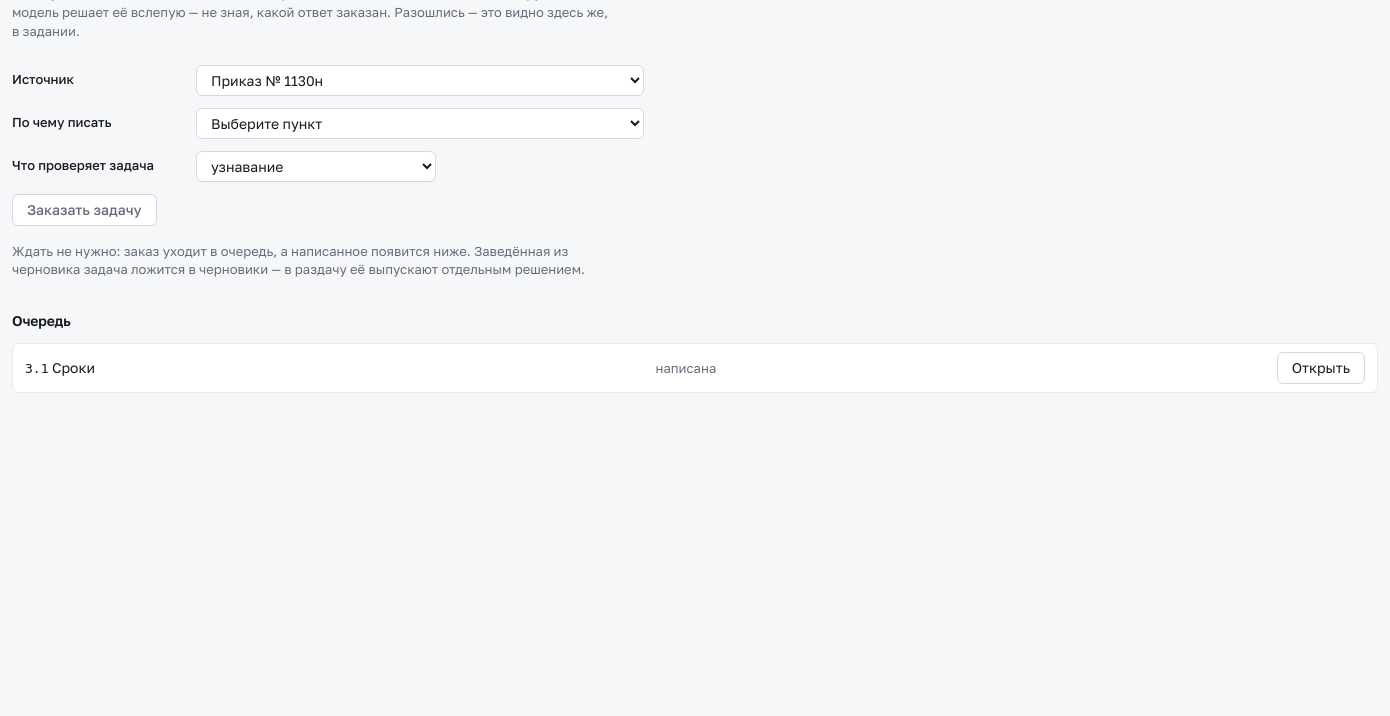
слепая сверка и повтор › снятое разбором расхождение не выглядит тревогой
Click the button "Открыть" at coordinates (1321, 368), box [1277,352,1365,384]
(page scrolled)
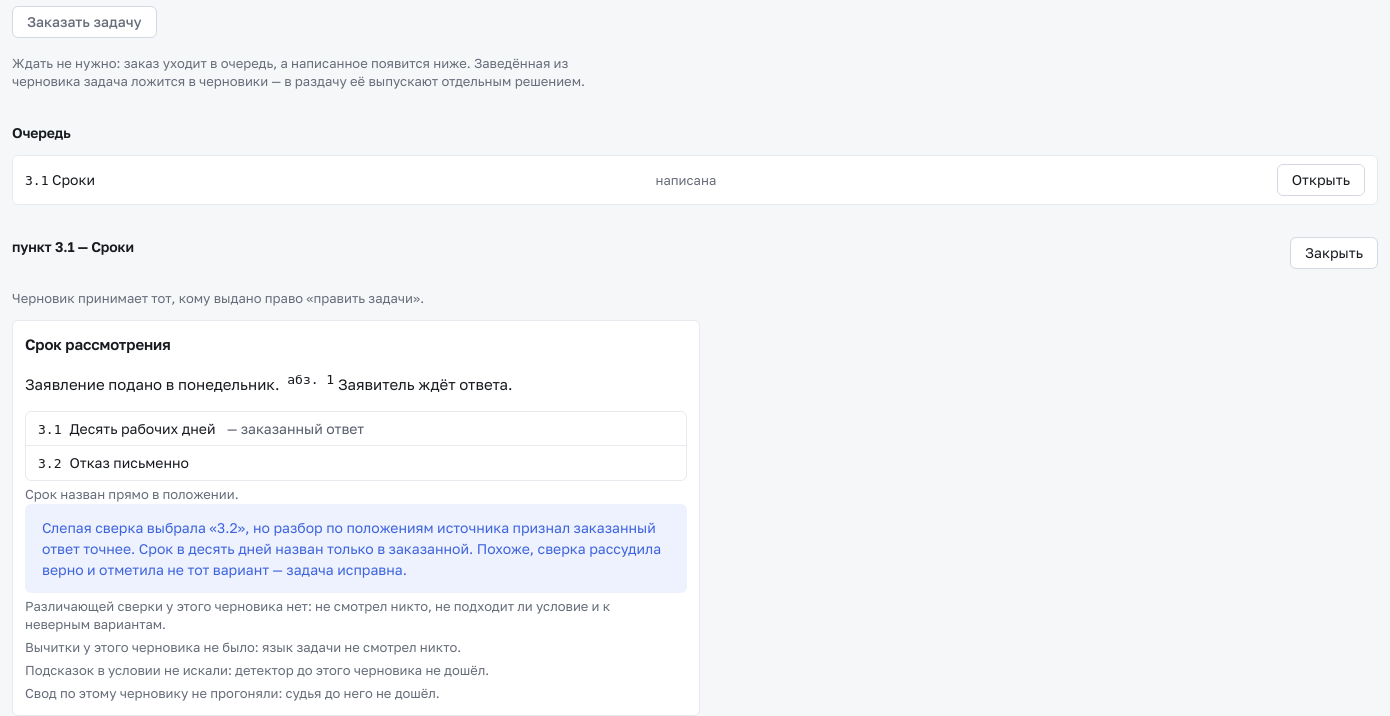
expect the text "разбор по положениям источника признал" shows "задача исправна": met, box [42,540,665,578]
expect the text "разбор по положениям источника признал" shows "3.2": met, box [217,518,238,536]
